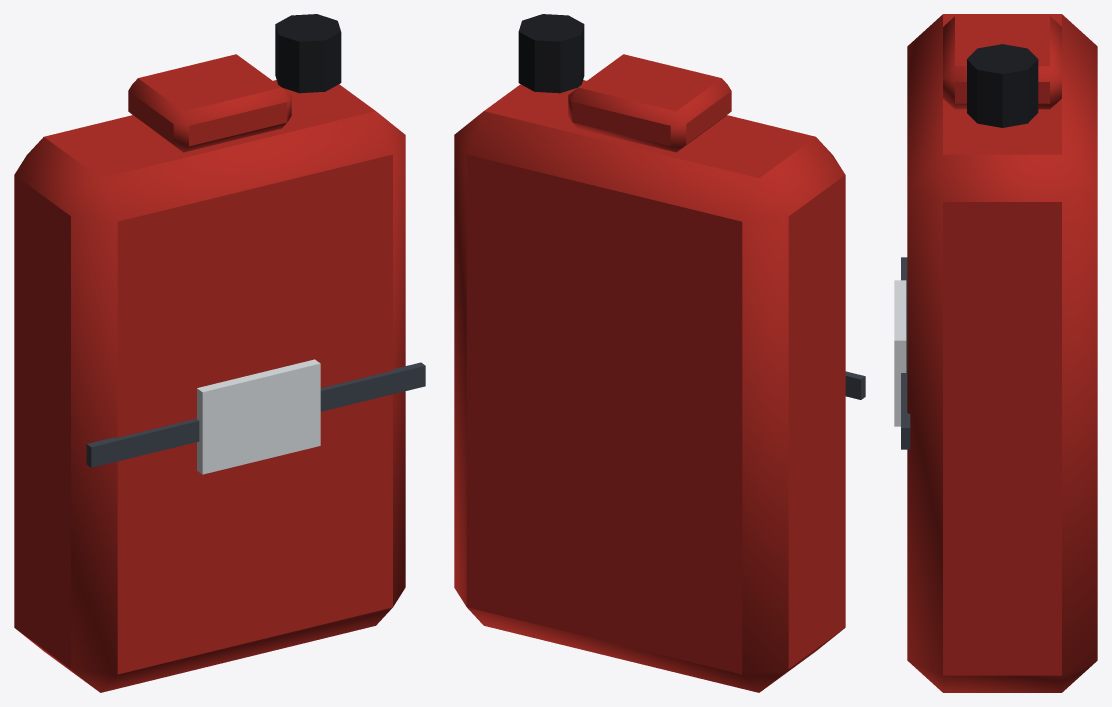
The model's file is barrel_jerrycan_single.glb.
3 renders of one model, left to right at view 1: azimuth 30°, elevation 25°; view 2: azimuth 150°, elevation 25°; view 3: azimuth 270°, elevation 25°, orthographic. The views are drawn at different scales.
Parts seen in each view (by area): view 1: barrel_jerrycan_single; view 2: barrel_jerrycan_single; view 3: barrel_jerrycan_single.
Boxes of the visible parts, x1,y1,x2,y2 form: barrel_jerrycan_single: (14, 14, 425, 692); barrel_jerrycan_single: (454, 14, 865, 692); barrel_jerrycan_single: (894, 14, 1097, 692).
Size of the model in its own units: 0.34 by 0.57 by 0.171.
